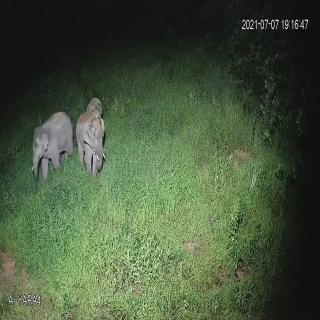Elephant: (31, 105, 74, 185), (77, 106, 106, 182)
